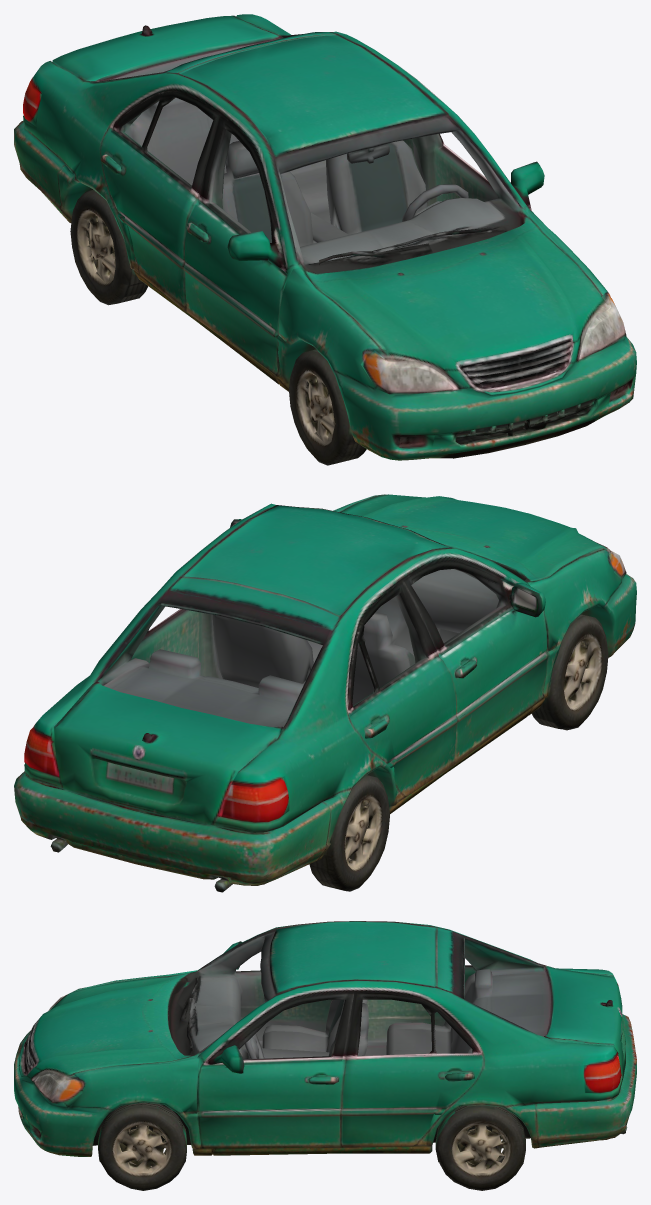
Rendered from sedan.glb.
3 views of the same model, one above another, from view 1: azimuth 30°, elevation 25°; view 2: azimuth 150°, elevation 25°; view 3: azimuth 270°, elevation 25° (orthographic). The views are drawn at different scales.
Visible parts, largest first — view 1: tripo_node_e3ac2853-32aa-4fa3-9fc3-4c550feb334f; view 2: tripo_node_e3ac2853-32aa-4fa3-9fc3-4c550feb334f; view 3: tripo_node_e3ac2853-32aa-4fa3-9fc3-4c550feb334f.
Boxes of the visible parts, x1,y1,x2,y2 form: tripo_node_e3ac2853-32aa-4fa3-9fc3-4c550feb334f: (14, 14, 636, 465); tripo_node_e3ac2853-32aa-4fa3-9fc3-4c550feb334f: (14, 494, 636, 892); tripo_node_e3ac2853-32aa-4fa3-9fc3-4c550feb334f: (14, 921, 636, 1190).
Bounding box in the file's own units: 0.4383 × 0.3388 × 0.9782.
Materials: 1 (1 with a texture image).
